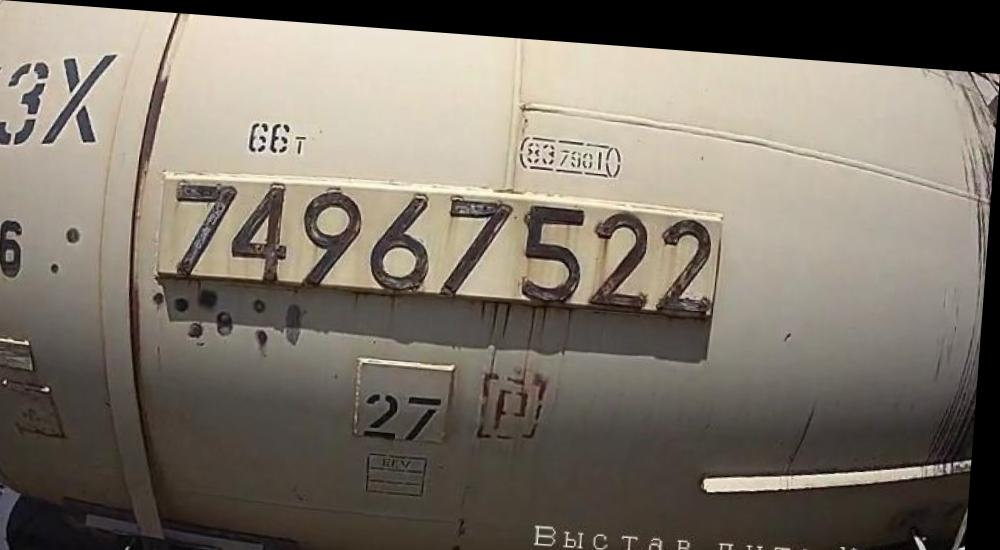Wagon-number: (160, 168, 723, 306)
